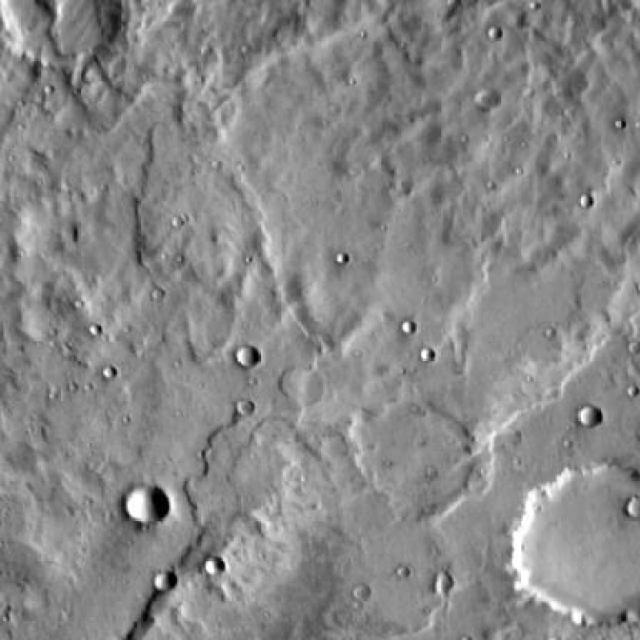crater: (501, 464, 640, 632), (352, 408, 471, 518), (8, 0, 119, 72), (123, 488, 166, 528), (474, 87, 500, 111), (577, 407, 603, 431), (234, 346, 260, 369), (617, 498, 640, 524), (153, 569, 176, 591), (438, 576, 459, 596), (206, 558, 226, 576), (236, 400, 255, 417), (578, 192, 594, 210)
